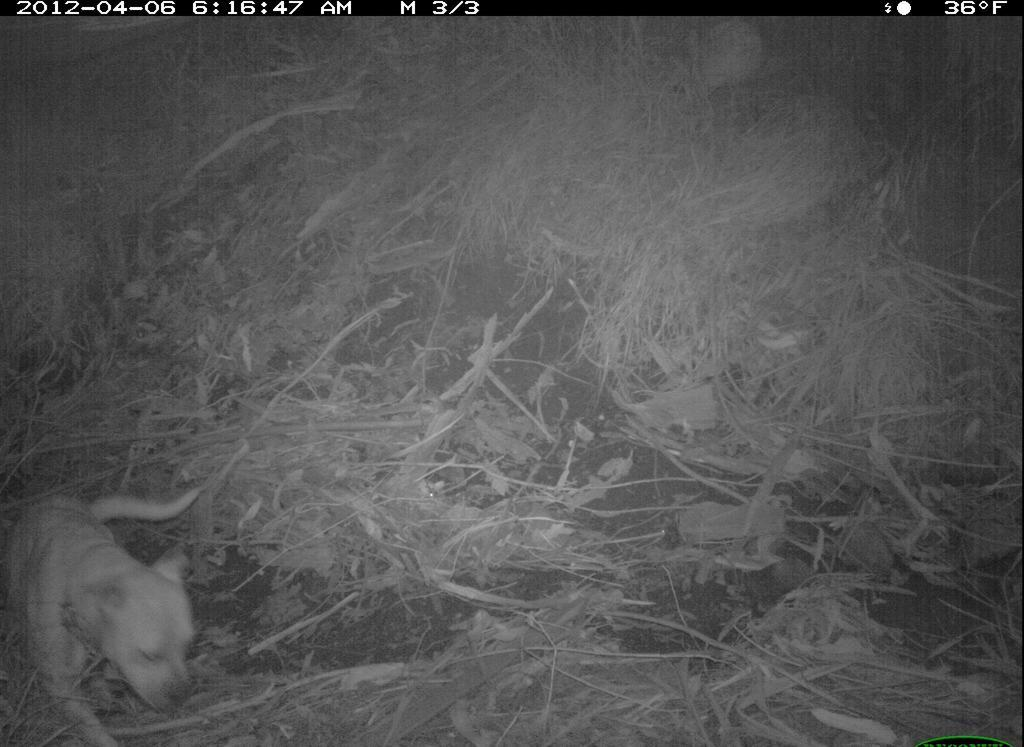dog: (4, 464, 232, 745)
